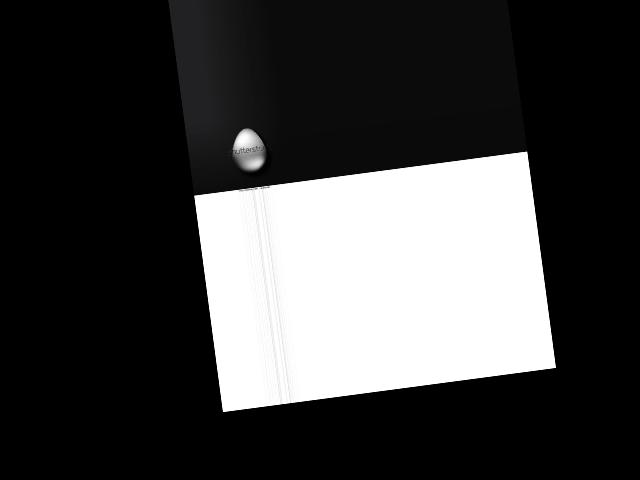egg: (228, 125, 269, 174)
